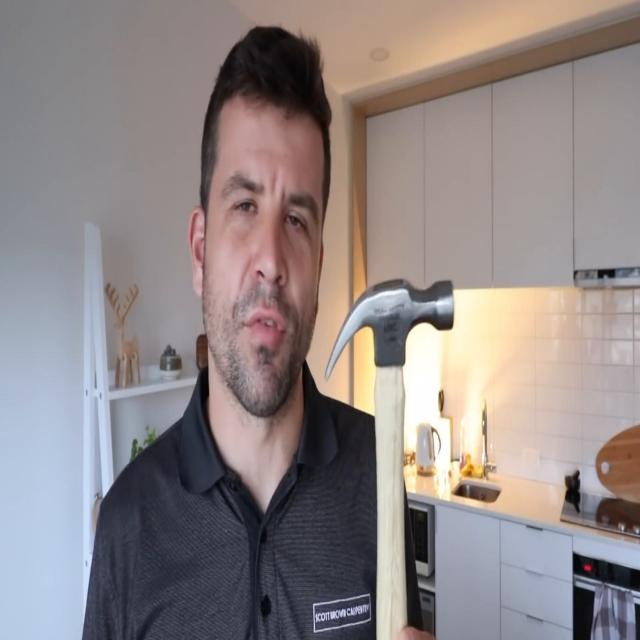hammer: (324, 280, 458, 639)
